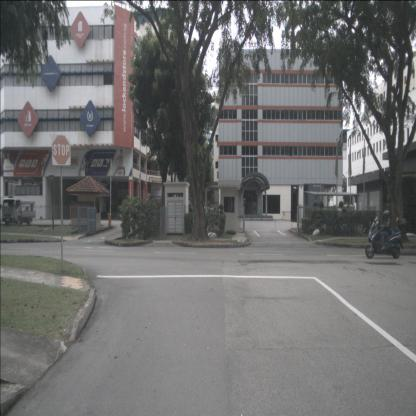vehicle-motorcycle: (365, 208, 407, 258)
vehicle-truck: (2, 198, 36, 226)
